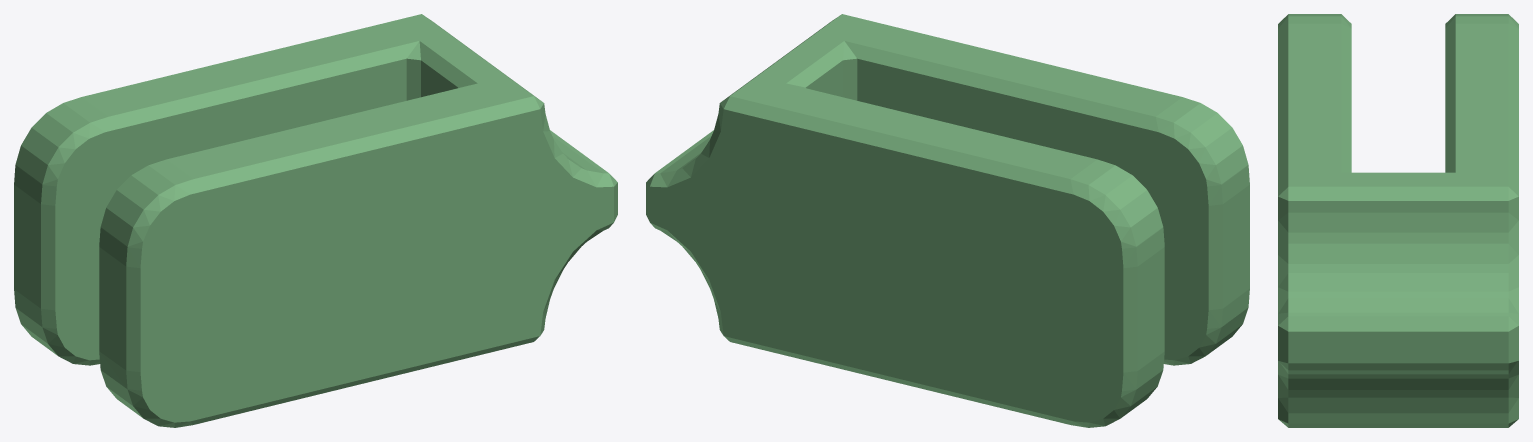
The model's file is VIS_ElasticHingePart1.dae.
3 views of the same model, side by side, from view 1: azimuth 30°, elevation 25°; view 2: azimuth 150°, elevation 25°; view 3: azimuth 270°, elevation 25° (orthographic).
Visible parts, largest first — view 1: VIS_ElasticHingePart1; view 2: VIS_ElasticHingePart1; view 3: VIS_ElasticHingePart1.
Boxes of the visible parts, x1,y1,x2,y2 form: VIS_ElasticHingePart1: [14, 14, 617, 427]; VIS_ElasticHingePart1: [646, 14, 1249, 427]; VIS_ElasticHingePart1: [1278, 14, 1518, 427].
Bounding box in the file's own units: 0.0523 × 0.0226 × 0.025.
